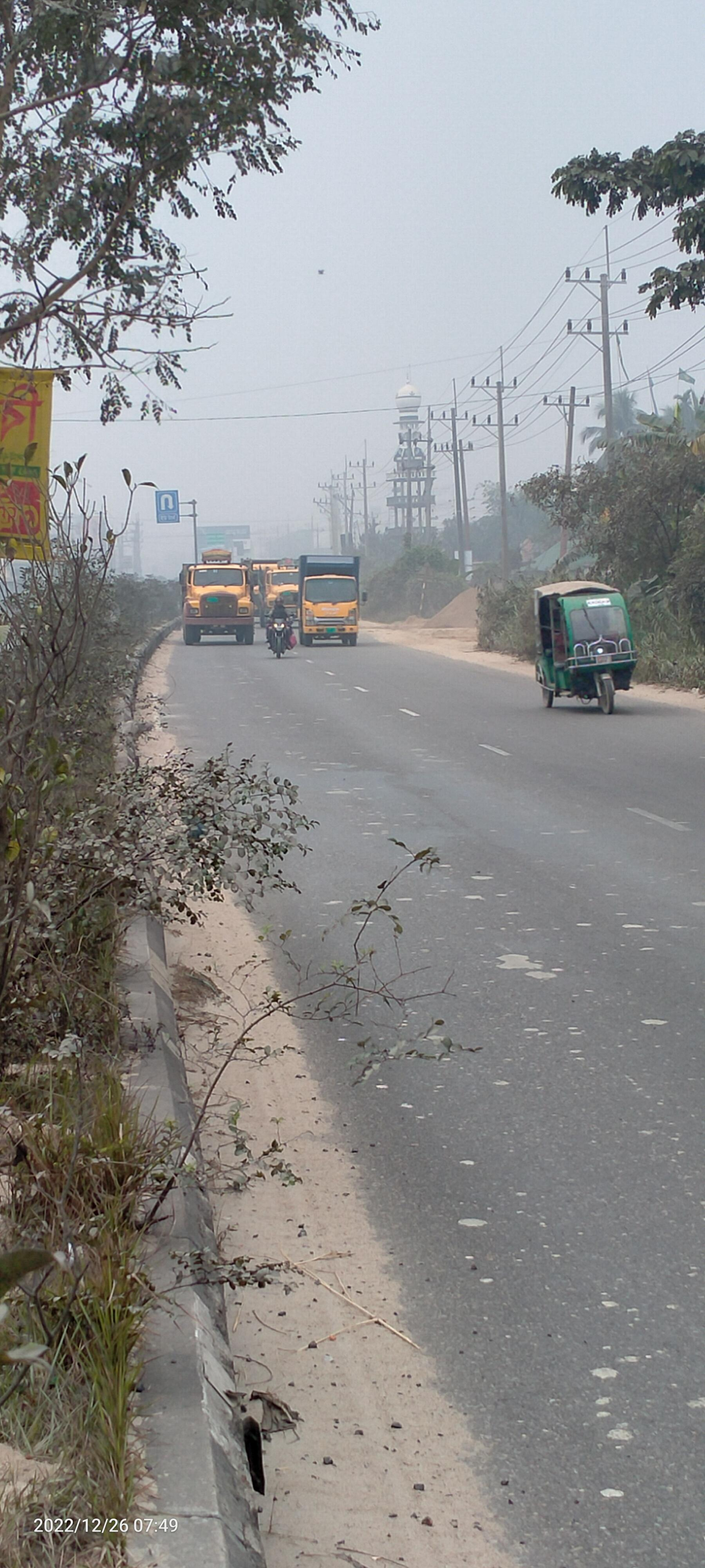Bike: (246, 586, 304, 661)
Car: (529, 559, 649, 725)
Truck: (292, 545, 370, 652), (176, 549, 258, 642)
